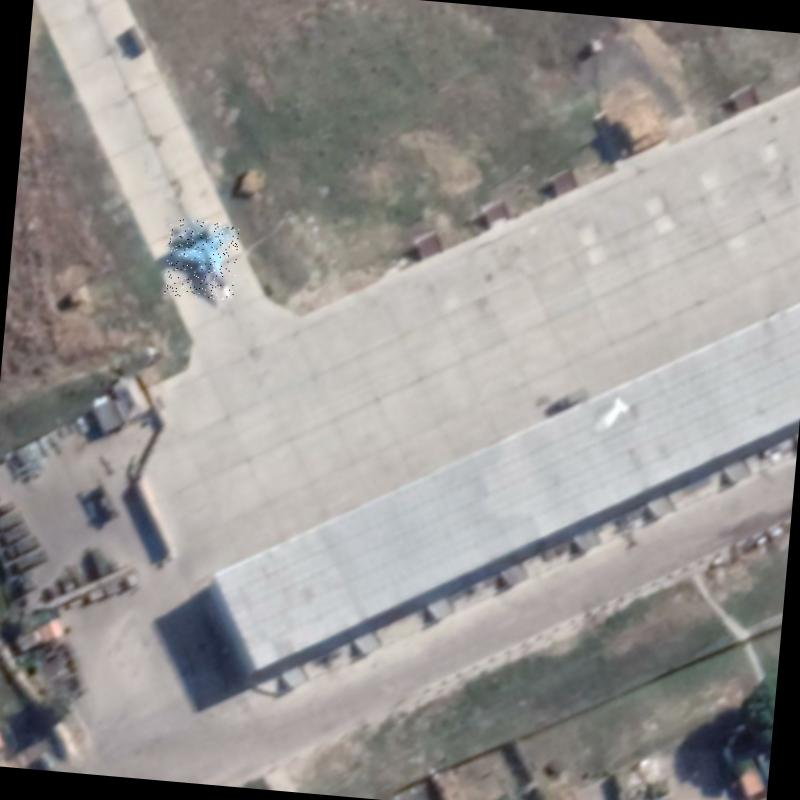A19: (163, 217, 240, 301)
